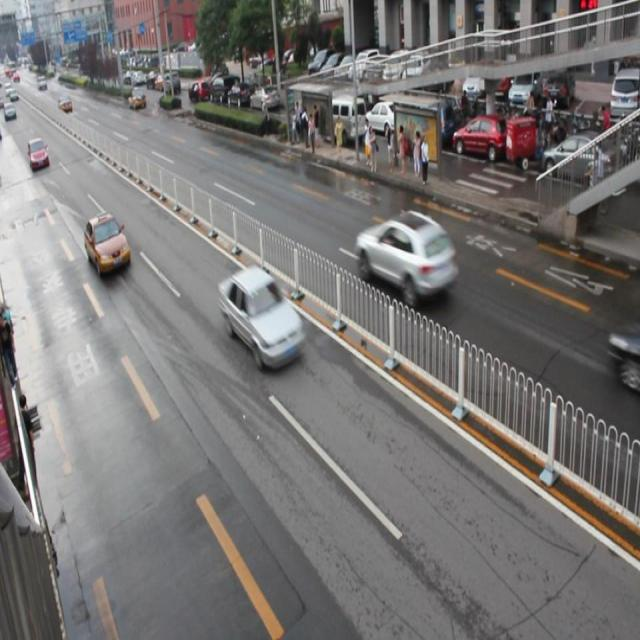car: (355, 211, 458, 302), (218, 268, 306, 370), (85, 211, 130, 276)
